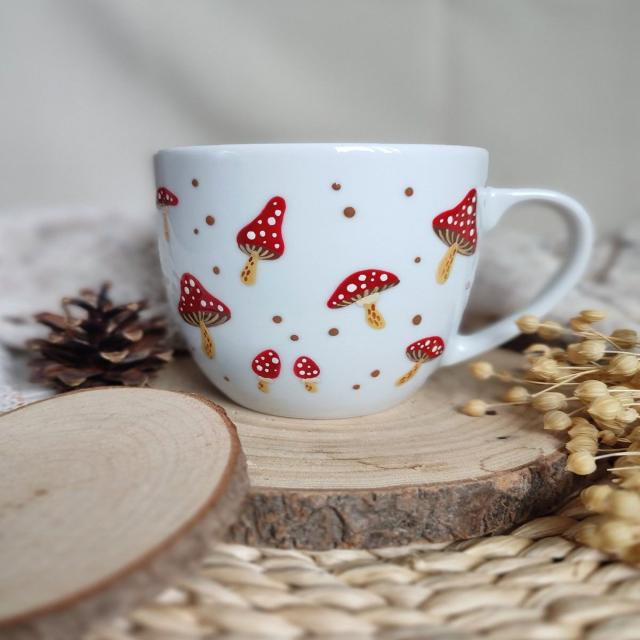glass cup: (153, 143, 595, 419)
